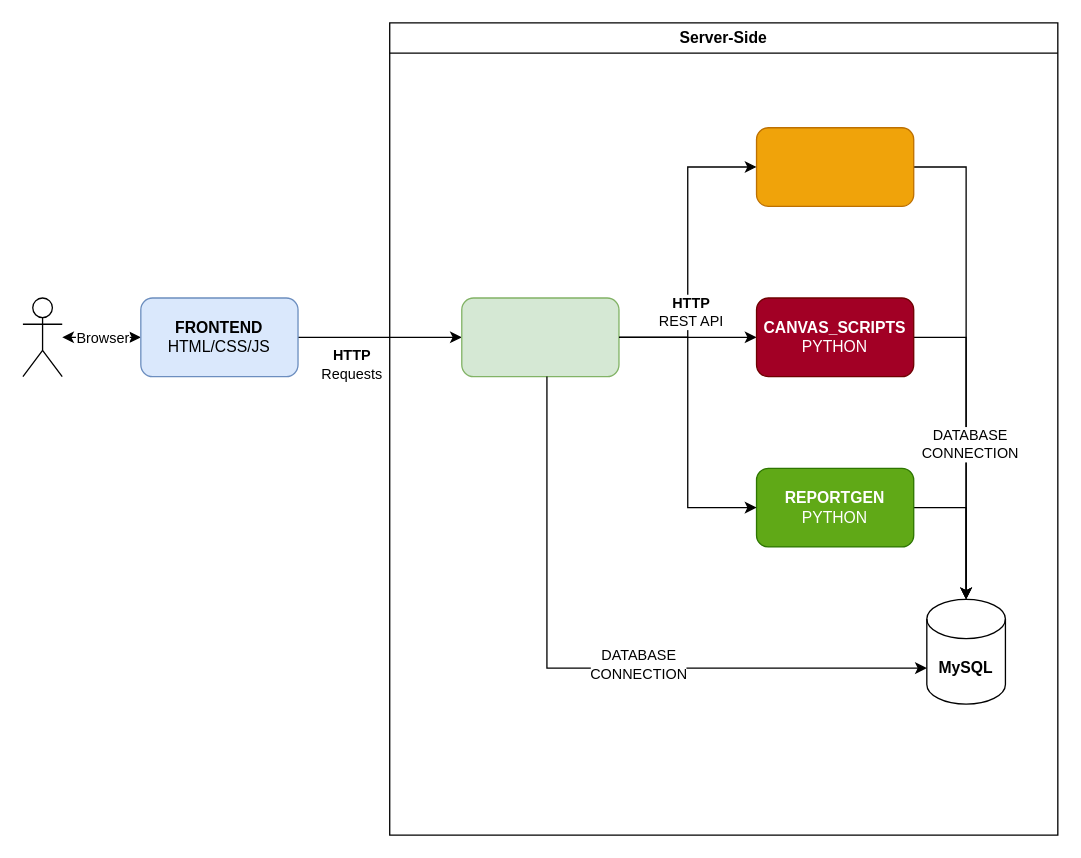
Some shapes in this 1081 by 858 pixel diagram are drawn without their labels. The centre of each missing label's shape, as x and y in pixels:
BACKEND PHP: point 539,337
EXTRACTION PYTHON: point 834,166
Users: point 42,337
